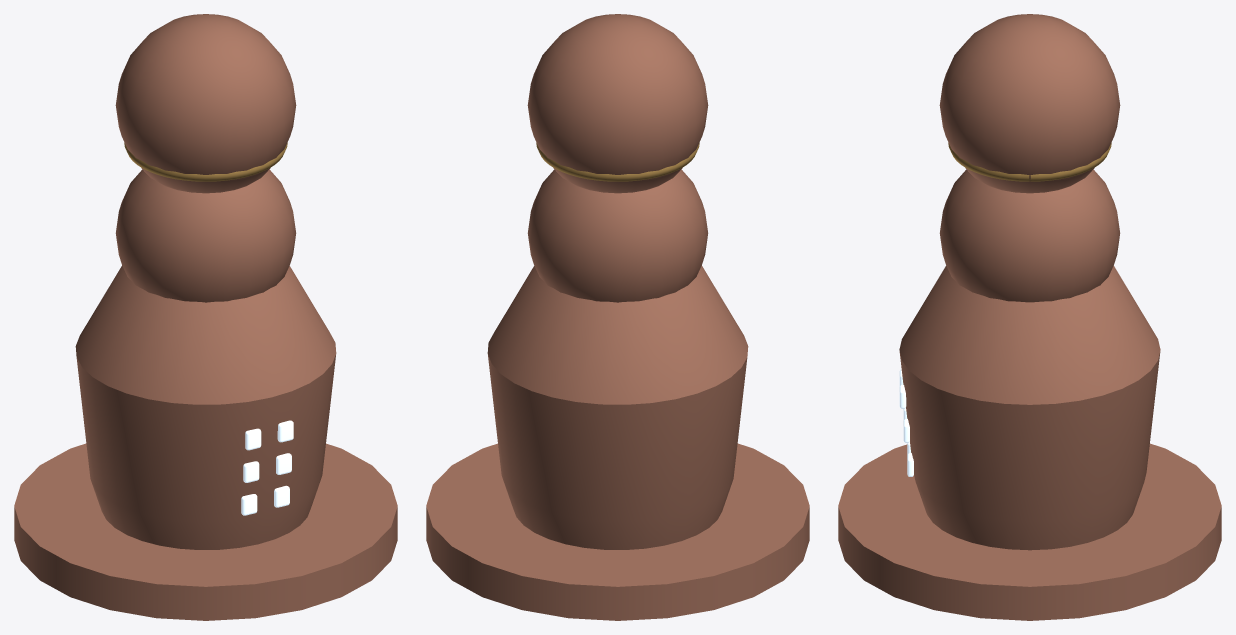
3 renders of one model, left to right at view 1: azimuth 30°, elevation 25°; view 2: azimuth 150°, elevation 25°; view 3: azimuth 270°, elevation 25°, orthographic.
Parts seen in each view (by area): view 1: Bulb shaped chamber, Foundation drum, Stacked rounded vessel.001, Stacked rounded vessel, Rounded vessel collar.001; view 2: Bulb shaped chamber, Foundation drum, Stacked rounded vessel.001, Stacked rounded vessel, Rounded vessel collar.001; view 3: Bulb shaped chamber, Foundation drum, Stacked rounded vessel.001, Stacked rounded vessel, Rounded vessel collar.001.
Boxes of the visible parts, x1=… form: Bulb shaped chamber: x1=75, y1=265, x2=336, y2=549; Foundation drum: x1=14, y1=443, x2=397, y2=620; Stacked rounded vessel.001: x1=115, y1=14, x2=296, y2=193; Stacked rounded vessel: x1=115, y1=169, x2=296, y2=302; Rounded vessel collar.001: x1=124, y1=142, x2=287, y2=181; Bulb shaped chamber: x1=487, y1=265, x2=748, y2=549; Foundation drum: x1=426, y1=443, x2=809, y2=620; Stacked rounded vessel.001: x1=527, y1=14, x2=708, y2=193; Stacked rounded vessel: x1=527, y1=169, x2=708, y2=302; Rounded vessel collar.001: x1=536, y1=142, x2=699, y2=181; Bulb shaped chamber: x1=899, y1=266, x2=1160, y2=550; Foundation drum: x1=838, y1=443, x2=1221, y2=620; Stacked rounded vessel.001: x1=939, y1=14, x2=1120, y2=193; Stacked rounded vessel: x1=939, y1=169, x2=1120, y2=302; Rounded vessel collar.001: x1=948, y1=142, x2=1111, y2=181.
Size of the model in its own units: 2.04 by 3.04 by 2.04.
